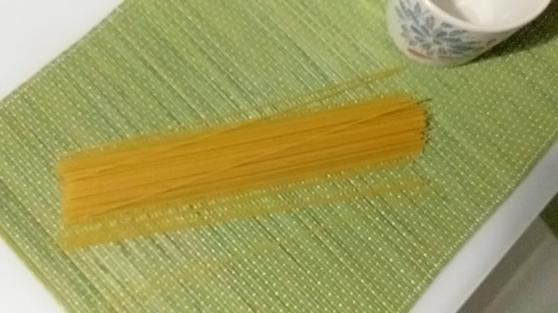spaghetti: (58, 89, 432, 250)
